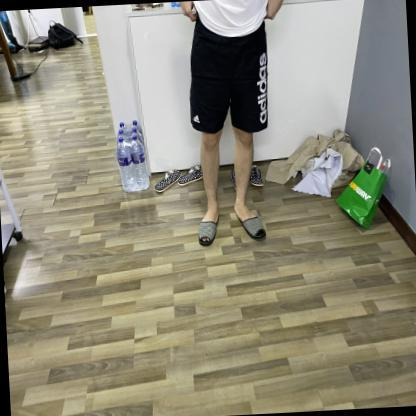no_safety-shoe: (230, 199, 271, 242), (190, 207, 223, 247)
